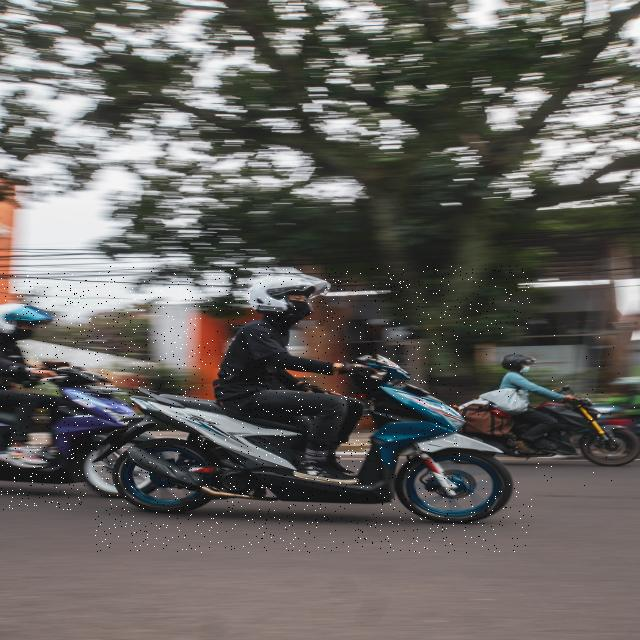With Helmet: (94, 266, 532, 553), (1, 273, 146, 510), (461, 334, 640, 491)
